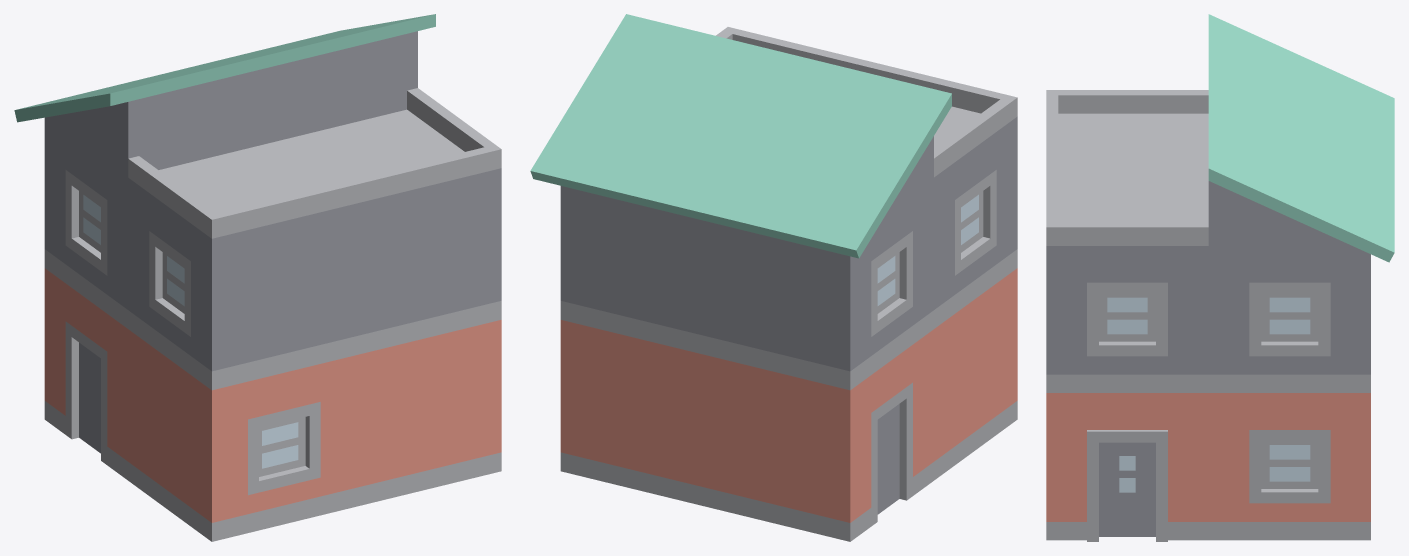
File: house21.fbx
The picture shows the model from 3 angles, left to right: view 1: azimuth 30°, elevation 25°; view 2: azimuth 150°, elevation 25°; view 3: azimuth 270°, elevation 25°; orthographic projection. The views are drawn at different scales.
Parts seen in each view (by area): view 1: house_type21; view 2: house_type21; view 3: house_type21.
Part boxes in pixels (x1=…): house_type21: x1=14, y1=14, x2=501, y2=541; house_type21: x1=530, y1=14, x2=1017, y2=541; house_type21: x1=1046, y1=14, x2=1394, y2=541.
Bounding box in the file's own units: 900 × 1034 × 858.
